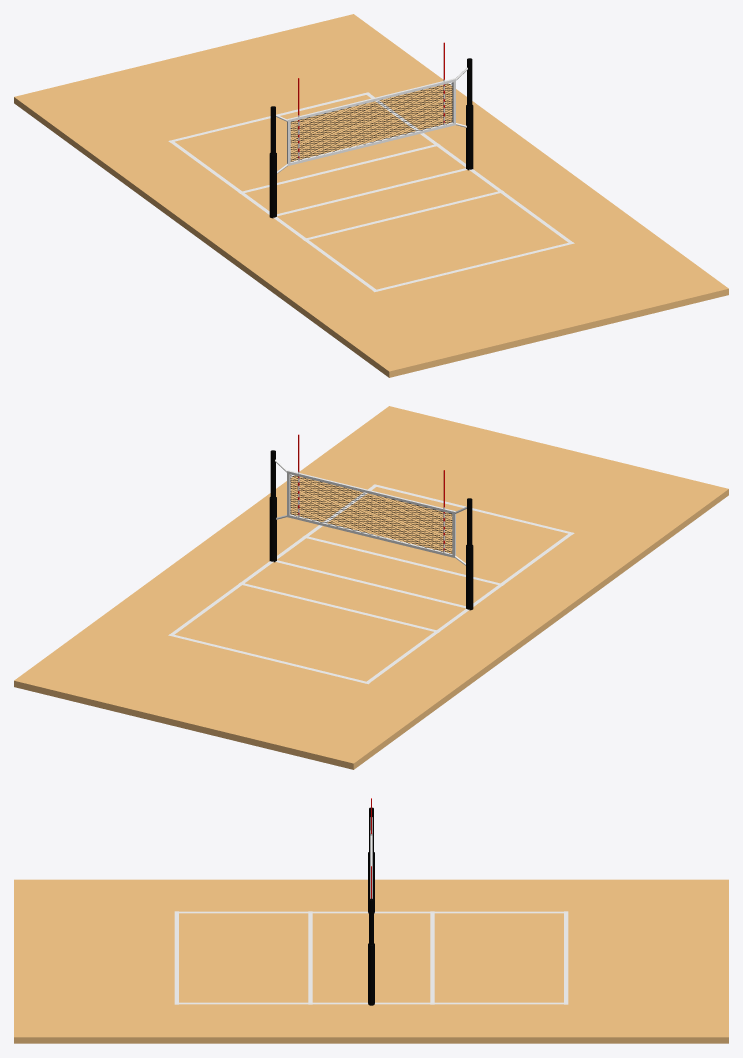
File: court.glb
3 renders of one model, top to bottom at view 1: azimuth 30°, elevation 25°; view 2: azimuth 150°, elevation 25°; view 3: azimuth 270°, elevation 25°, orthographic. The views are drawn at different scales.
Parts seen in each view (by area): view 1: Cube; view 2: Cube; view 3: Cube.
Boxes of the visible parts, bbox=[...] form: Cube: bbox=[14, 14, 728, 377]; Cube: bbox=[14, 406, 728, 769]; Cube: bbox=[14, 798, 728, 1043].
Bounding box in the file's own units: 111 × 43.37 × 213.
Materials: 6 (6 with a texture image).
